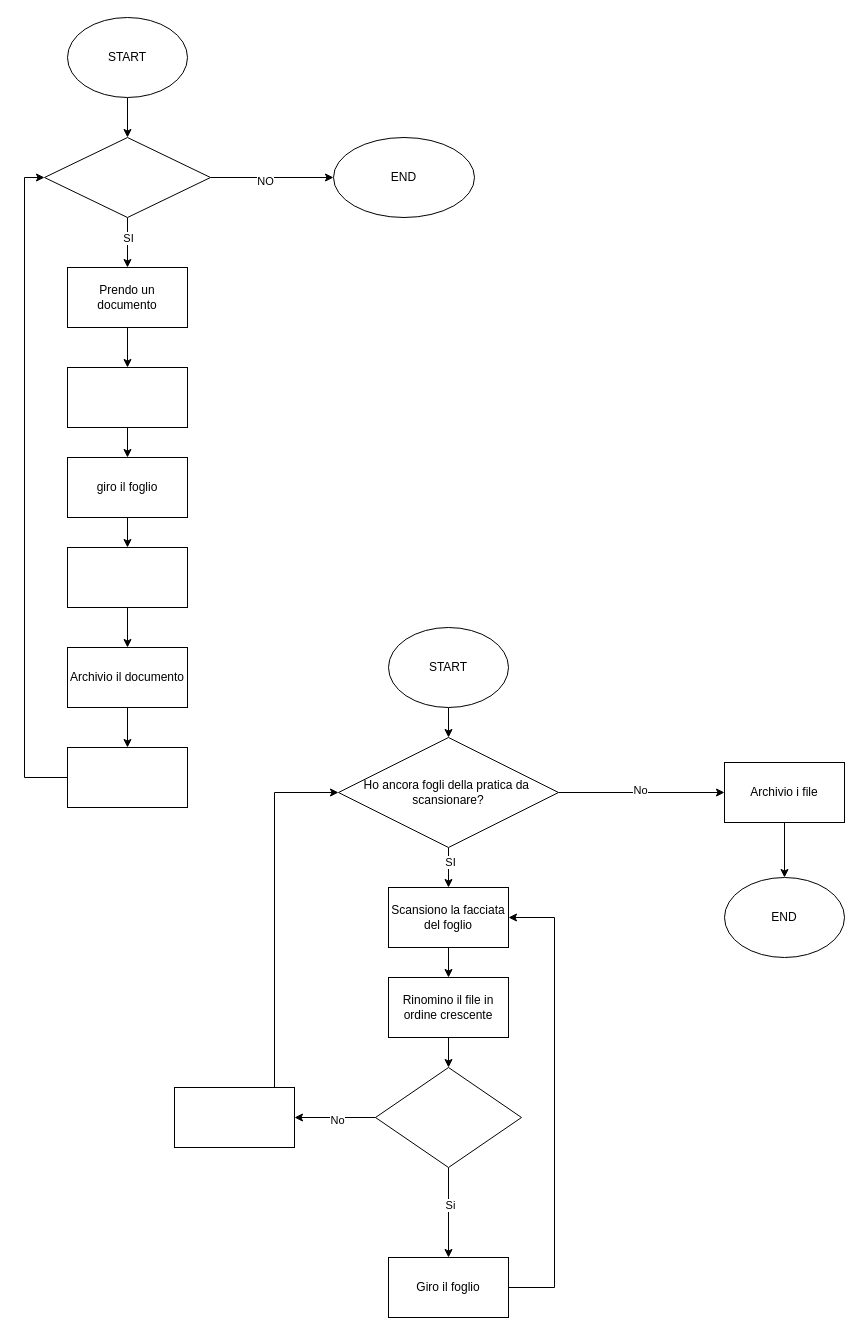
Some shapes in this 862 by 1335 pixel diagram are drawn without their labels. Here are the shapes that lost their labels. From the top down, the centre of each, then its label:
At (x=127, y=177): "Ho ancora fogli da scansionare?".
At (x=127, y=397): "Scansiono il fronte".
At (x=127, y=577): "scansiono il retro".
At (x=127, y=777): "Elimino il documento cartaceo".
At (x=234, y=1117): "Elimino / Ripongo il cartaceo".
At (x=448, y=1117): "Ho altre facciate da scansionare?".
